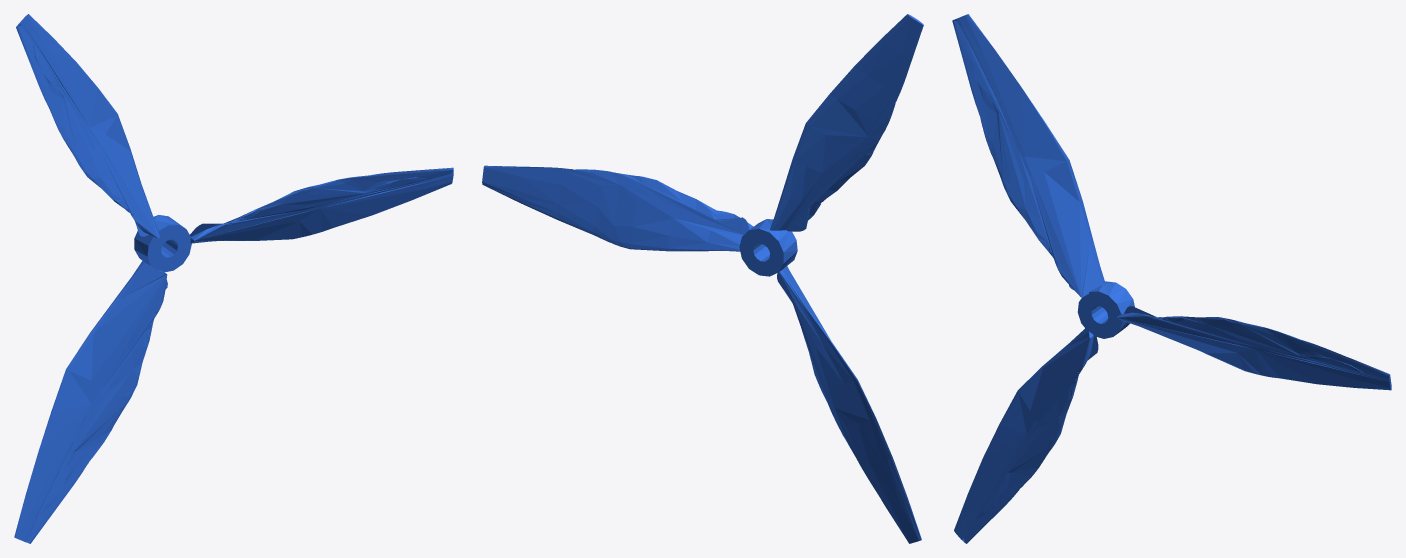
The model's file is prop_ccw.obj.
3 views of the same model, side by side, from view 1: azimuth 30°, elevation 25°; view 2: azimuth 150°, elevation 25°; view 3: azimuth 330°, elevation 25° (orthographic).
Size of the model in its own units: 130 by 150 by 9.15.
